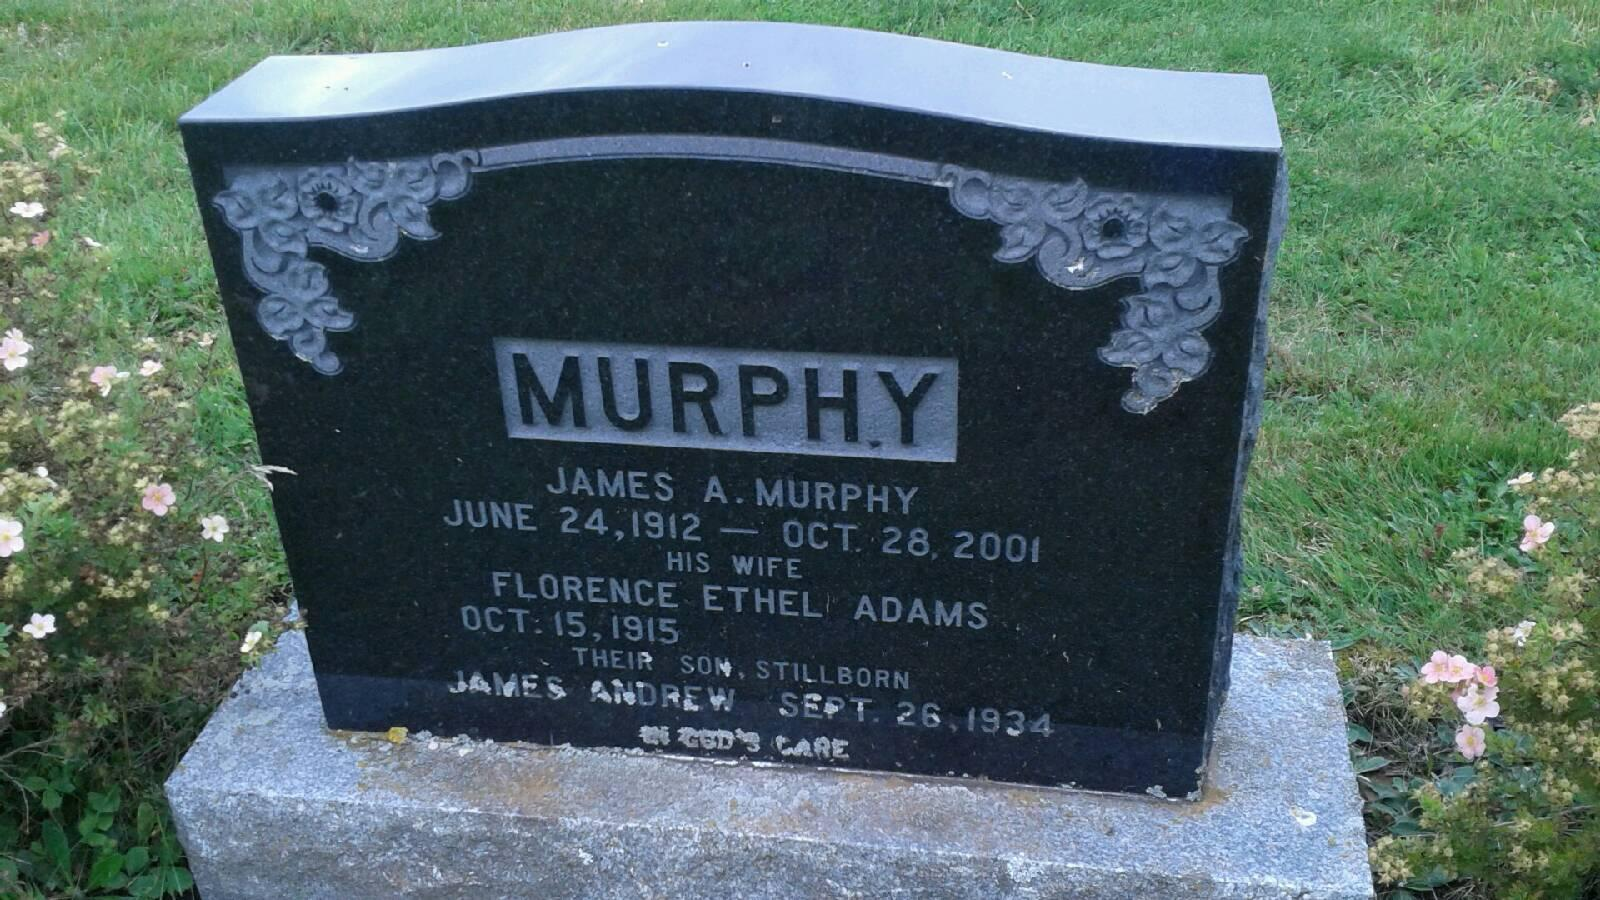upright: (103, 12, 1385, 896)
